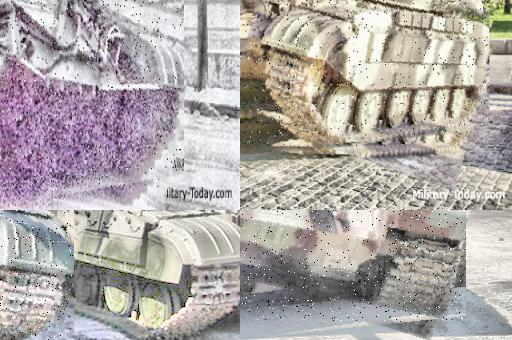tanks: (244, 1, 490, 147), (3, 1, 184, 188), (23, 211, 241, 340), (241, 211, 467, 323), (1, 211, 74, 340)
